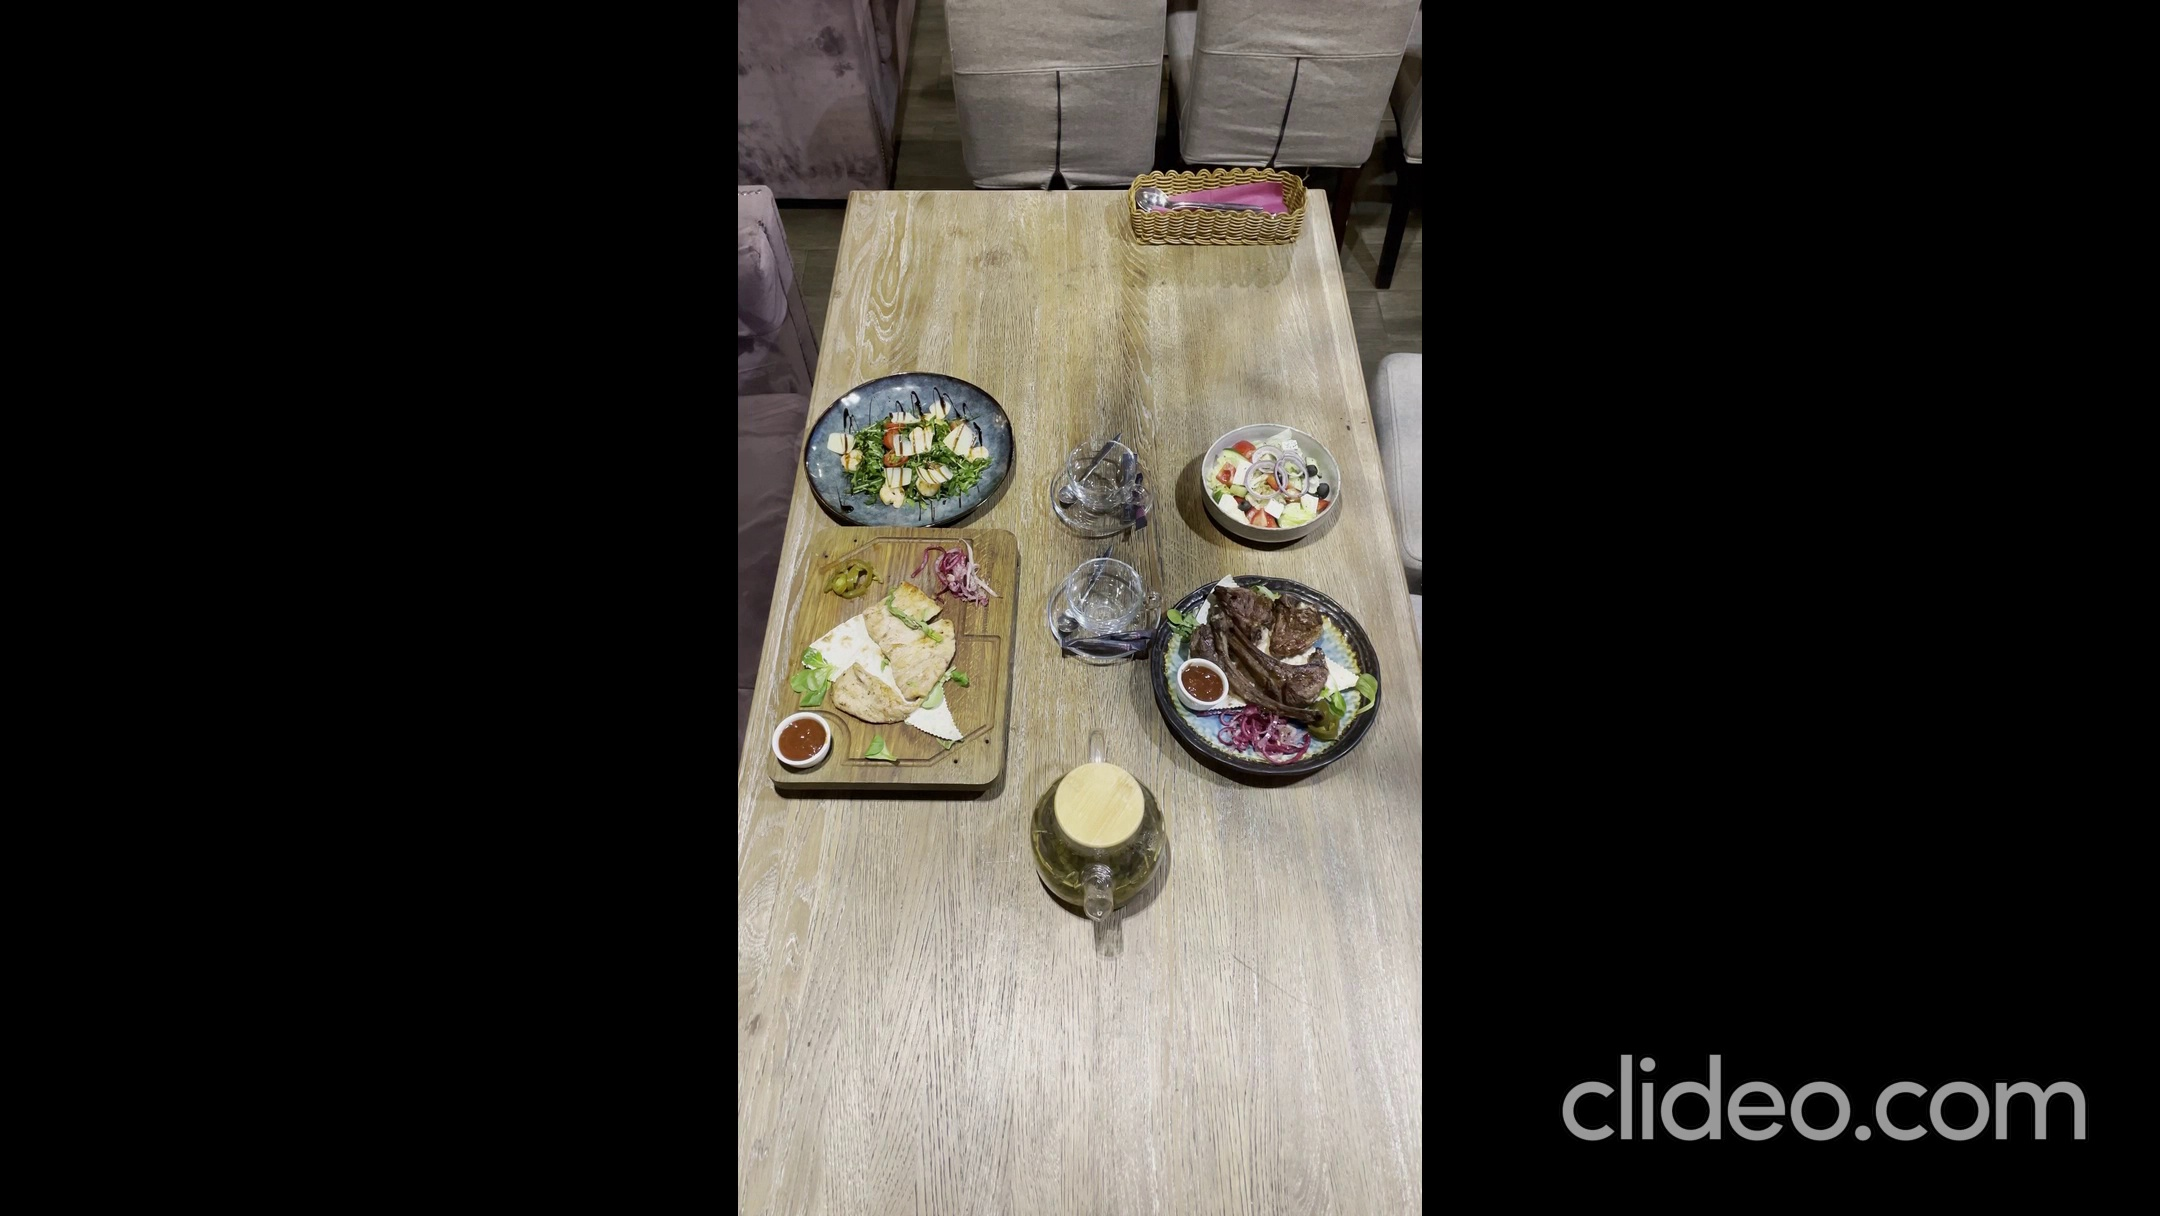графин с чаем: (1031, 730, 1165, 919)
закуска: (768, 526, 1018, 793)
мясное блюдо: (1151, 575, 1383, 776)
салат: (806, 371, 1013, 529)
салат цезарь: (1203, 424, 1343, 544)
